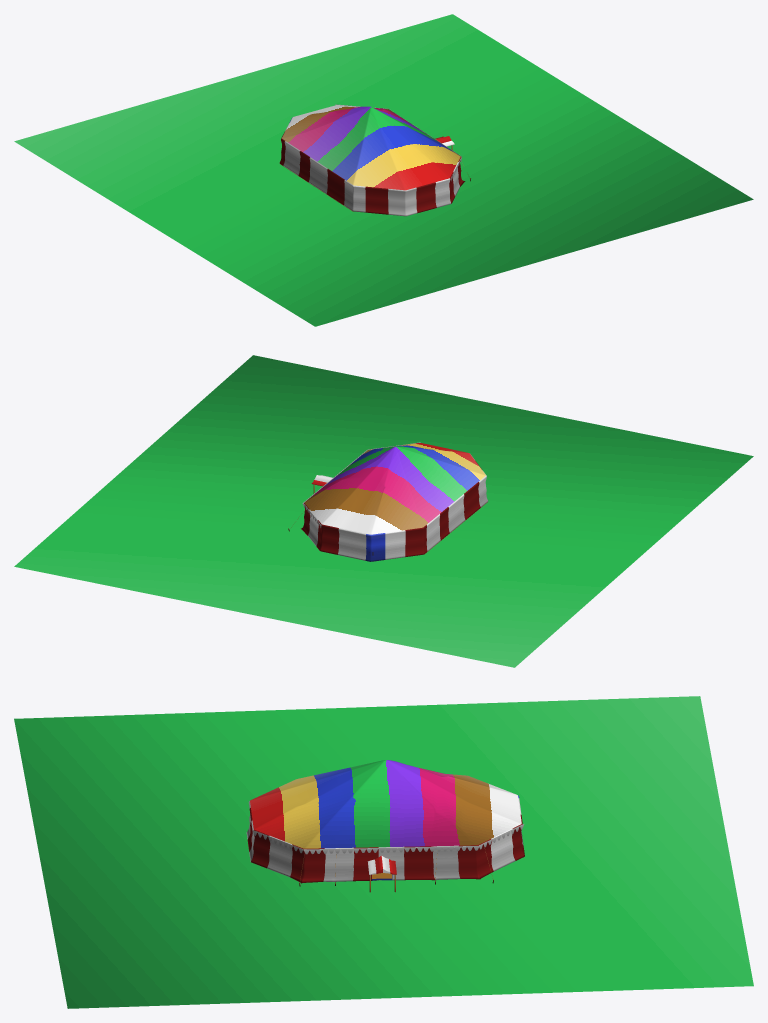
File: BigTopTent.fbx
The picture shows the model from 3 angles, top to bottom: view 1: azimuth 30°, elevation 25°; view 2: azimuth 150°, elevation 25°; view 3: azimuth 270°, elevation 25°; orthographic projection. The views are drawn at different scales.
Visible parts, largest first — view 1: BigTopTent; view 2: BigTopTent; view 3: BigTopTent.
Part boxes in pixels (<box>): BigTopTent: <box>14,14,753,326</box>; BigTopTent: <box>14,355,753,667</box>; BigTopTent: <box>14,696,753,1008</box>.
Size of the model in its own units: 20712 by 2665 by 20712.
